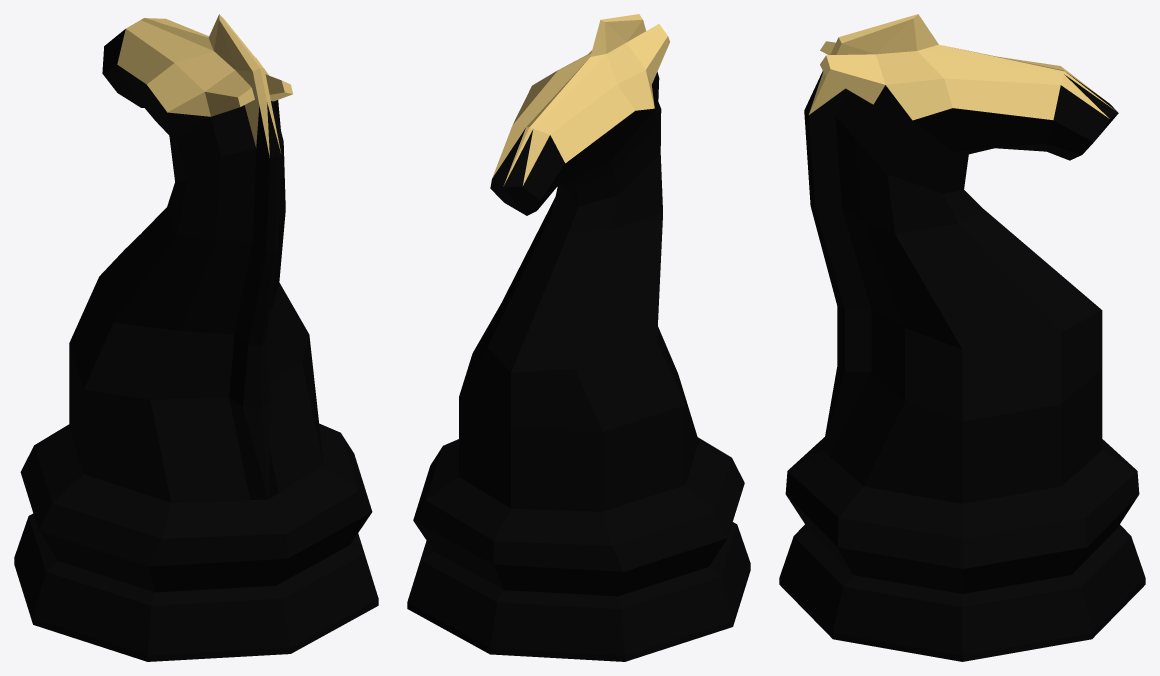
File: gercek5_n_b.glb
3 renders of one model, left to right at view 1: azimuth 30°, elevation 25°; view 2: azimuth 150°, elevation 25°; view 3: azimuth 270°, elevation 25°, orthographic. The views are drawn at different scales.
Visible parts, largest first — view 1: n_b; view 2: n_b; view 3: n_b.
Part boxes in pixels (x1,y1,x2,y2): n_b: (14,14,378,661); n_b: (407,14,750,661); n_b: (779,14,1145,661).
Bounding box in the file's own units: 0.5239 × 0.9 × 0.5239.
